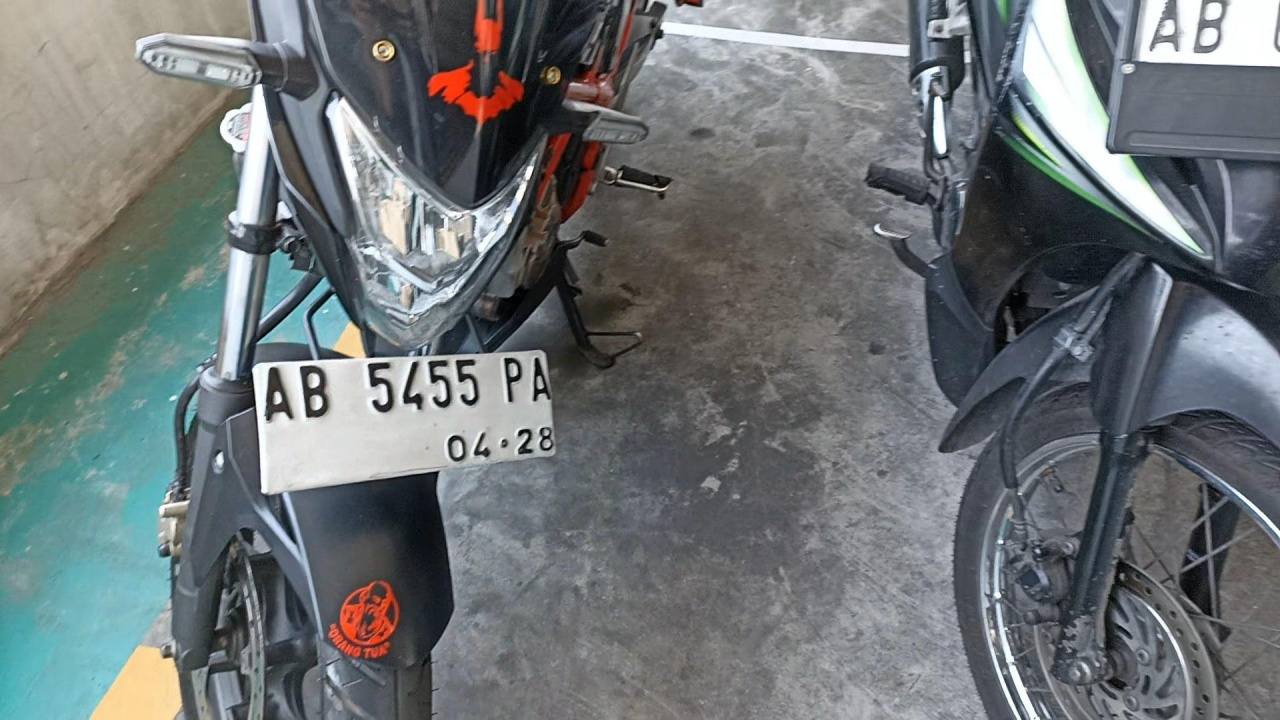plate: (255, 351, 557, 494)
